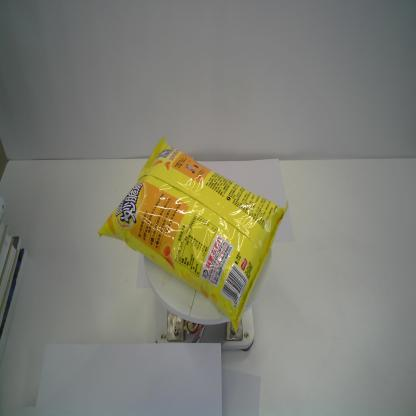Puffed Food: (97, 135, 289, 331)
